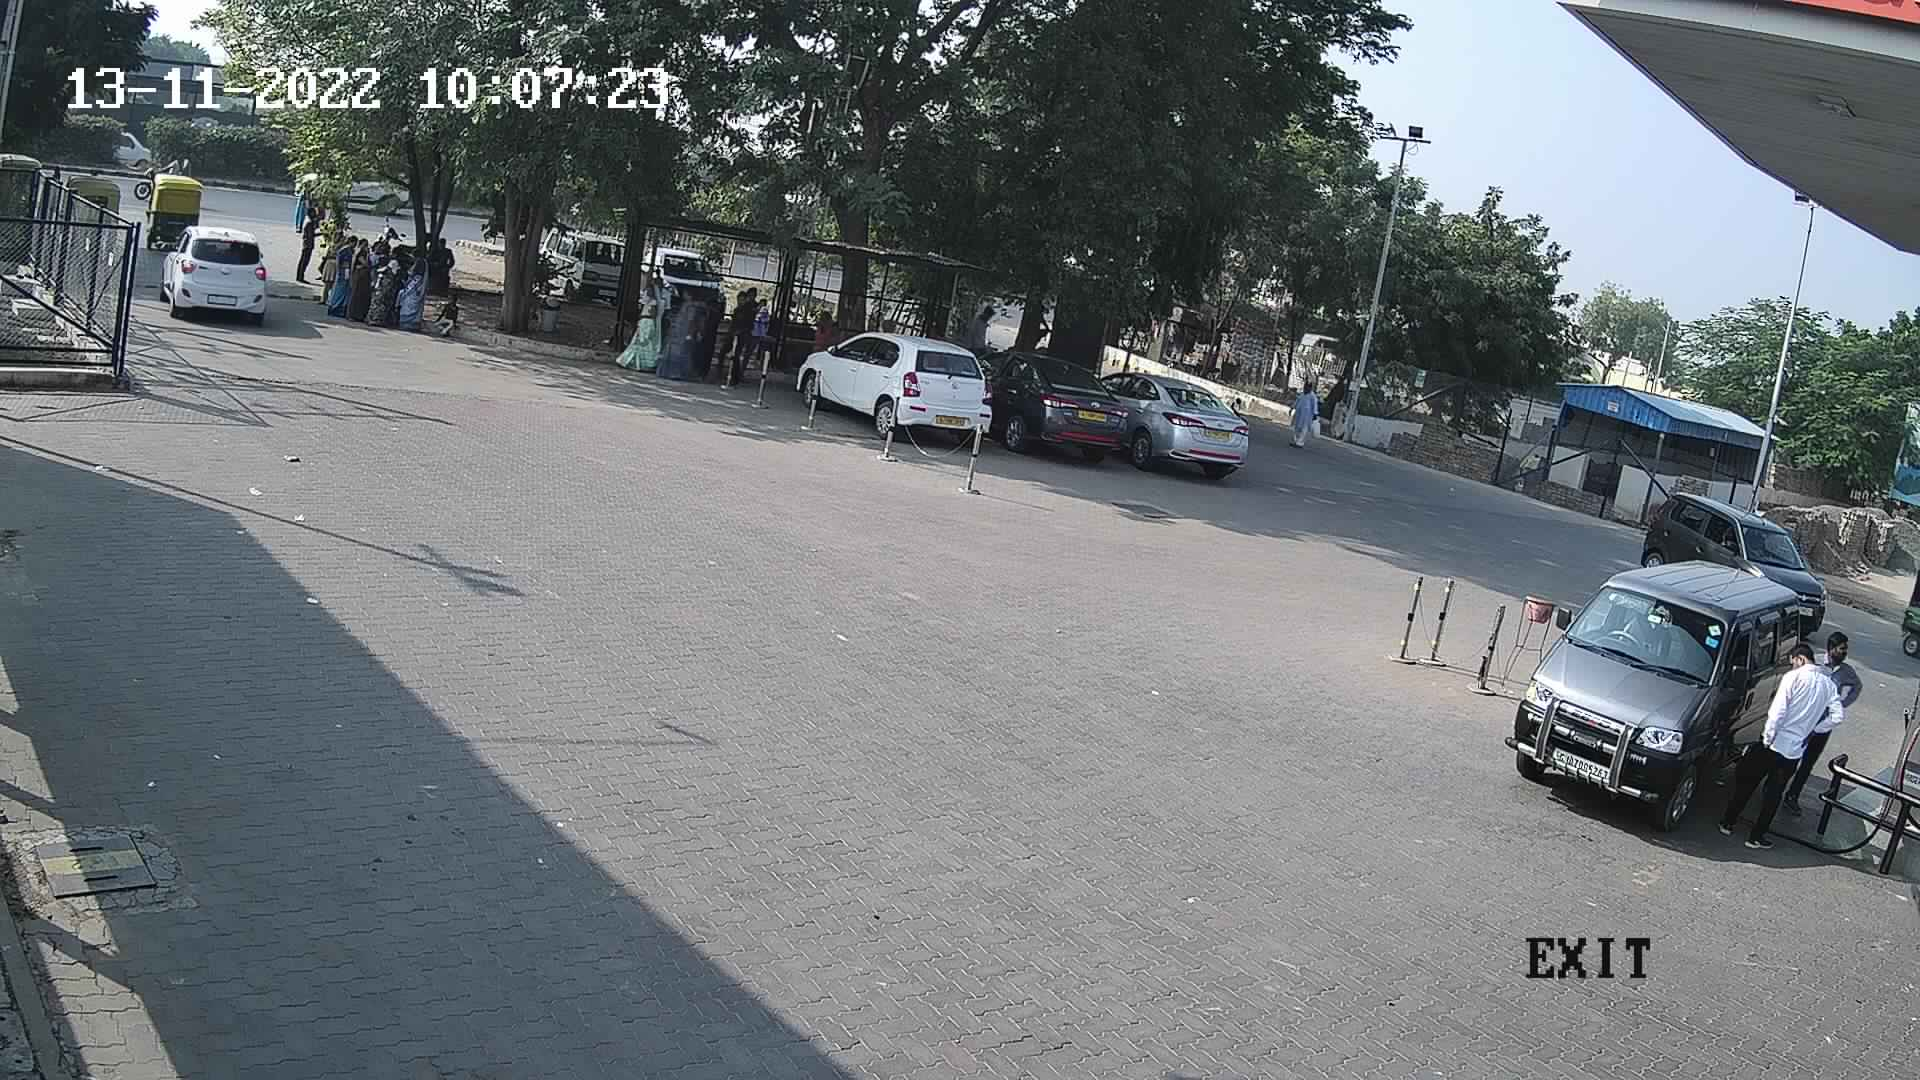Auto: (50, 161, 132, 266), (135, 165, 208, 257), (1, 142, 51, 266), (1890, 539, 1917, 669)
Bike: (123, 146, 204, 203), (364, 215, 422, 260)
Car: (1493, 551, 1826, 837), (1630, 473, 1838, 640), (786, 320, 1006, 459), (968, 338, 1133, 471), (1091, 365, 1251, 487), (146, 215, 282, 335), (534, 208, 634, 307), (640, 236, 737, 314)
